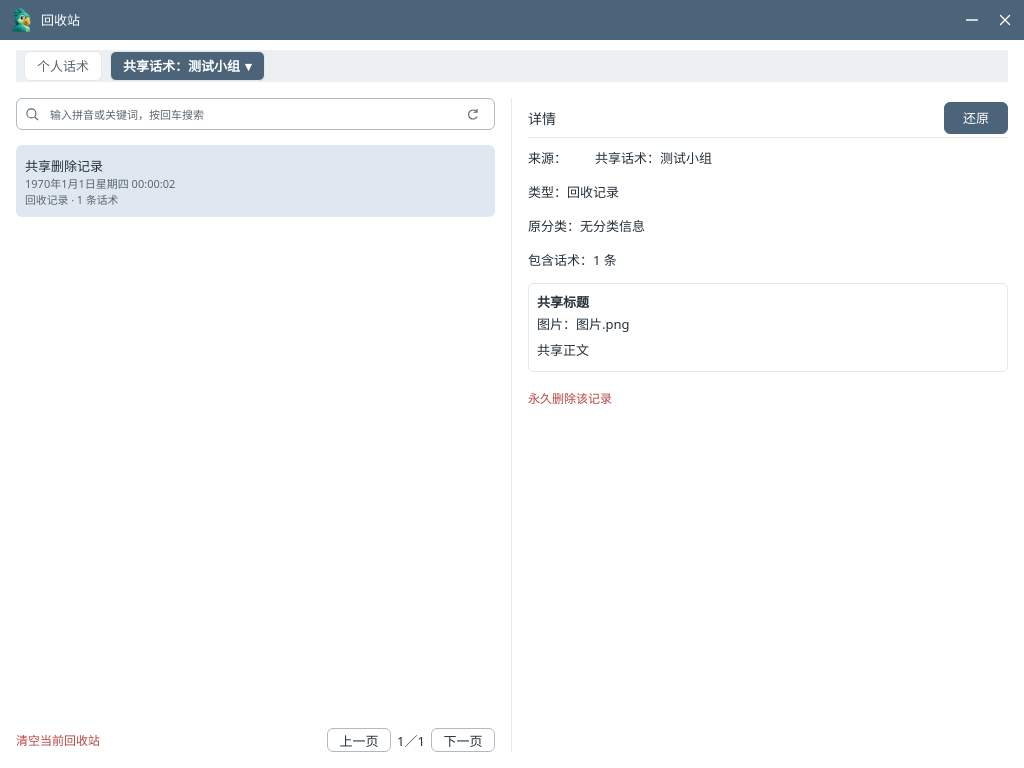
Scenario: 统一回收站 › 清空读取未筛选清单；取消不写入，连点确定仅提交一次并绑定来源
Check: the text "共享正文" is shown, box [537,341,589,359]
Type "关键词" into the field named "搜索回收站" at (250, 114), box [48,106,451,122]
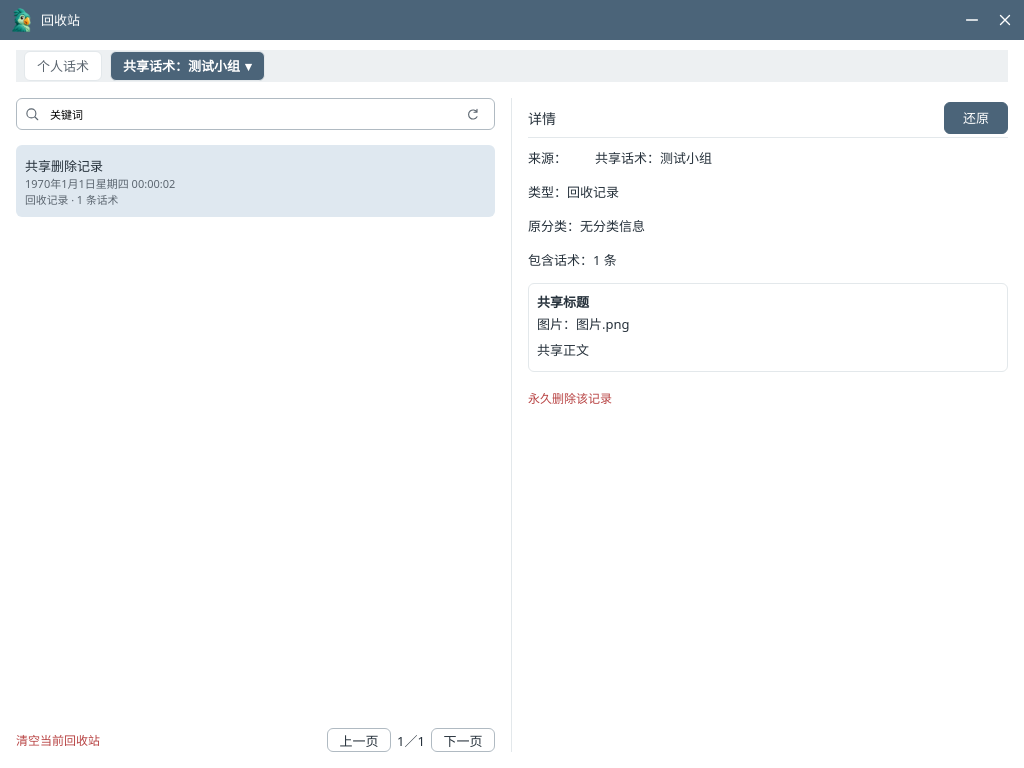
Submit the form named "搜索回收站", box [16,98,495,130]
Click the button "清空当前回收站" at (58, 740), box [16,728,100,752]
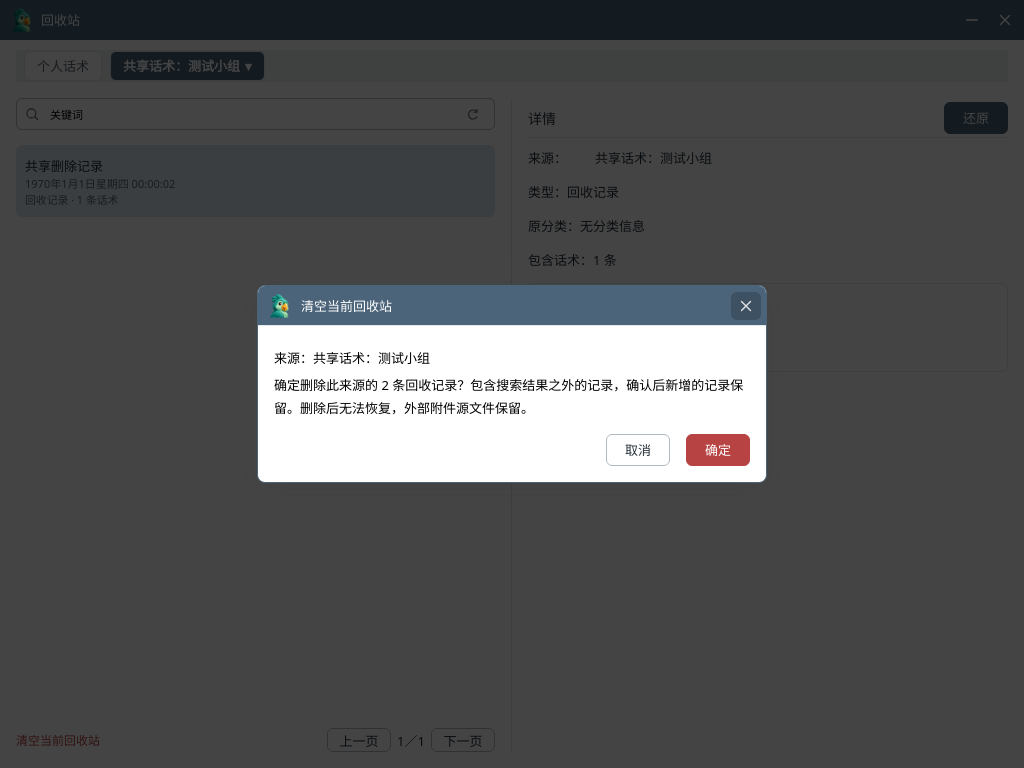
Check: the text "确定删除此来源的 2 条回收记录？包含搜索结果之外的记录，确认后新增的记录保留。删除后无法恢复，外部附件源文件保留。" is shown, box [274,374,750,419]
Click the button "取消" at (638, 450), box [606,434,670,466]
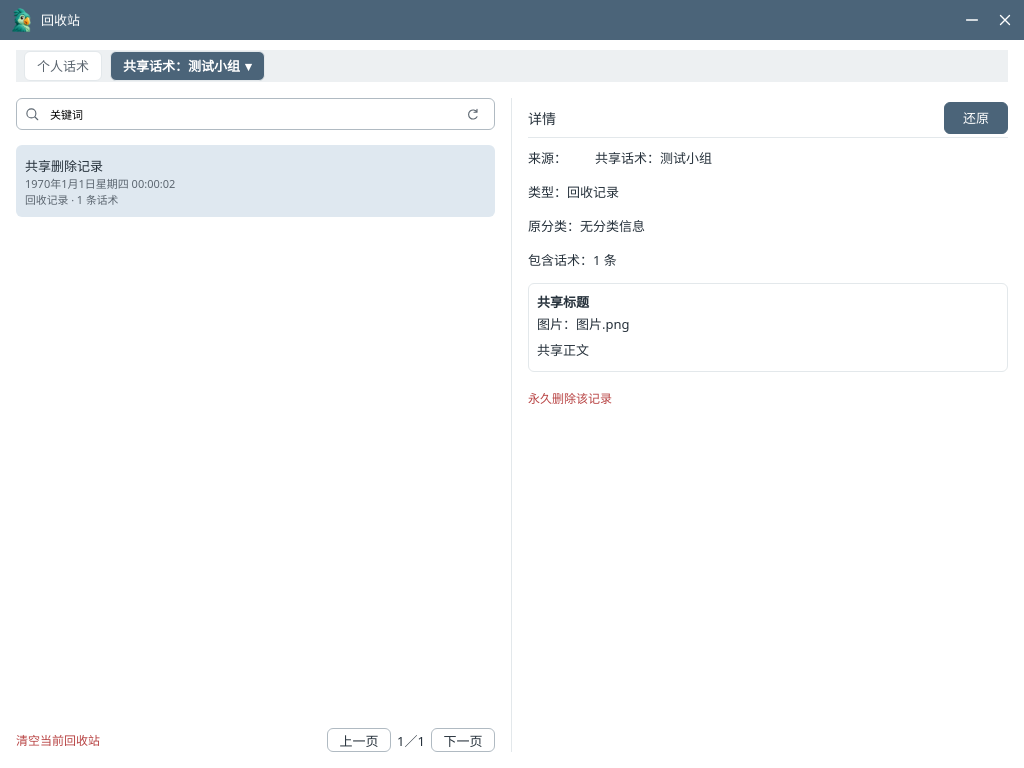
Click the button "清空当前回收站" at (58, 740), box [16,728,100,752]
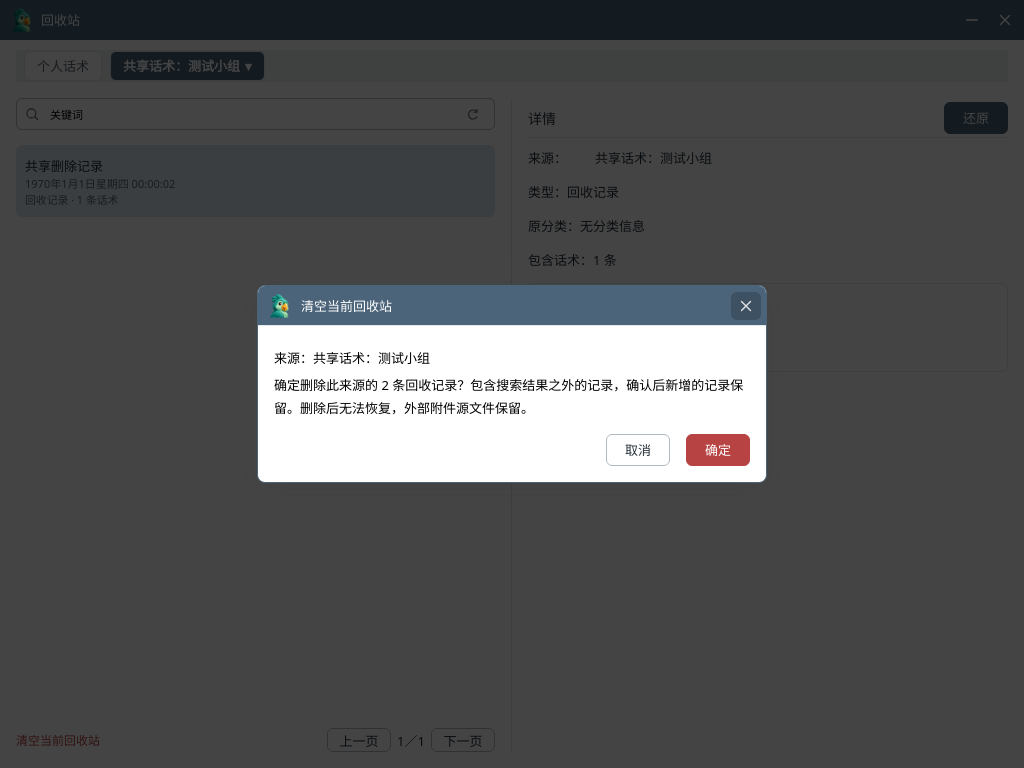
Click the button "确定" at (718, 450), box [686,434,750,466]
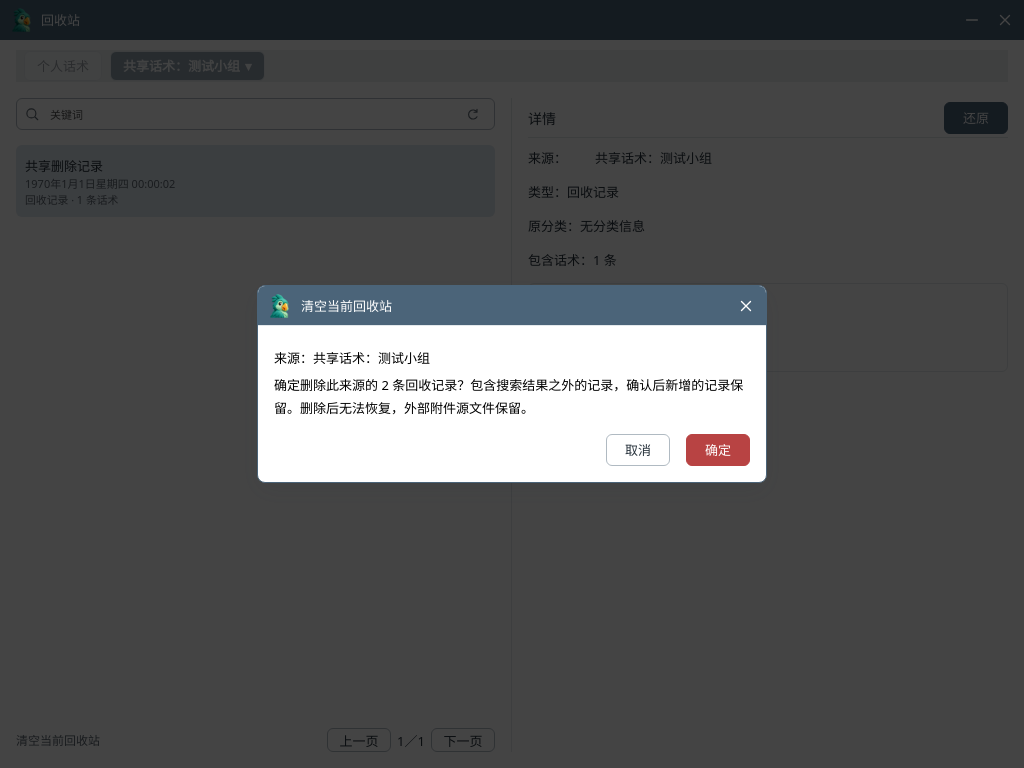
Click the button "确定" at (718, 450), box [686,434,750,466]
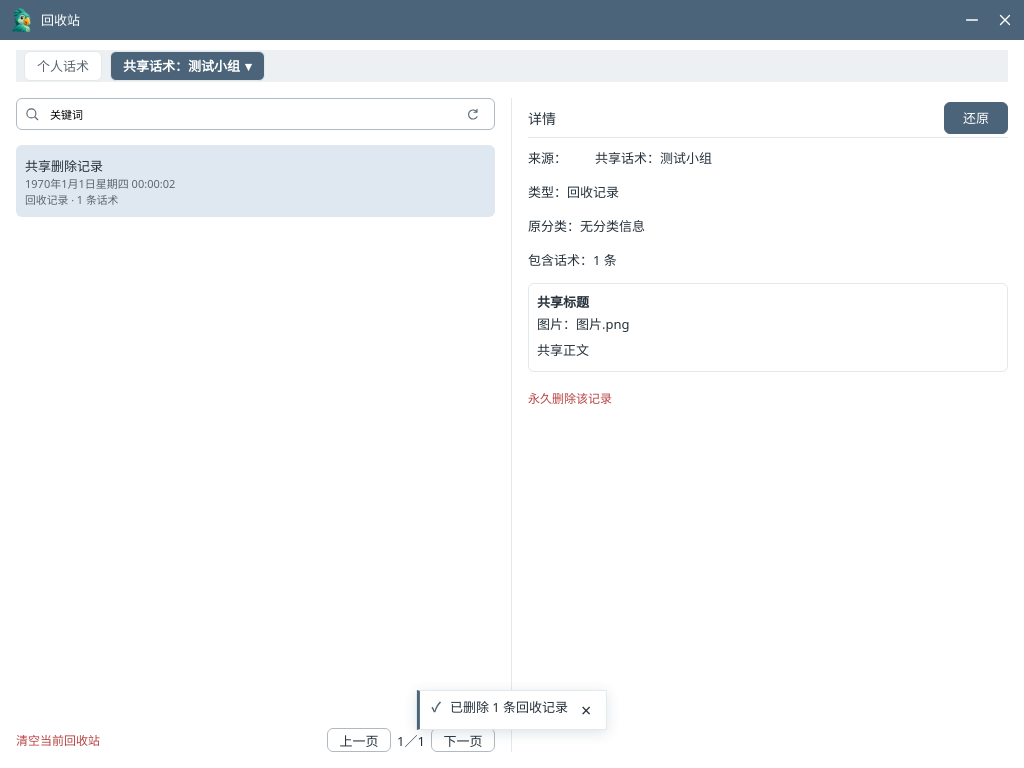
Check: the text "已删除 1 条回收记录" is shown, box [450,698,568,718]
